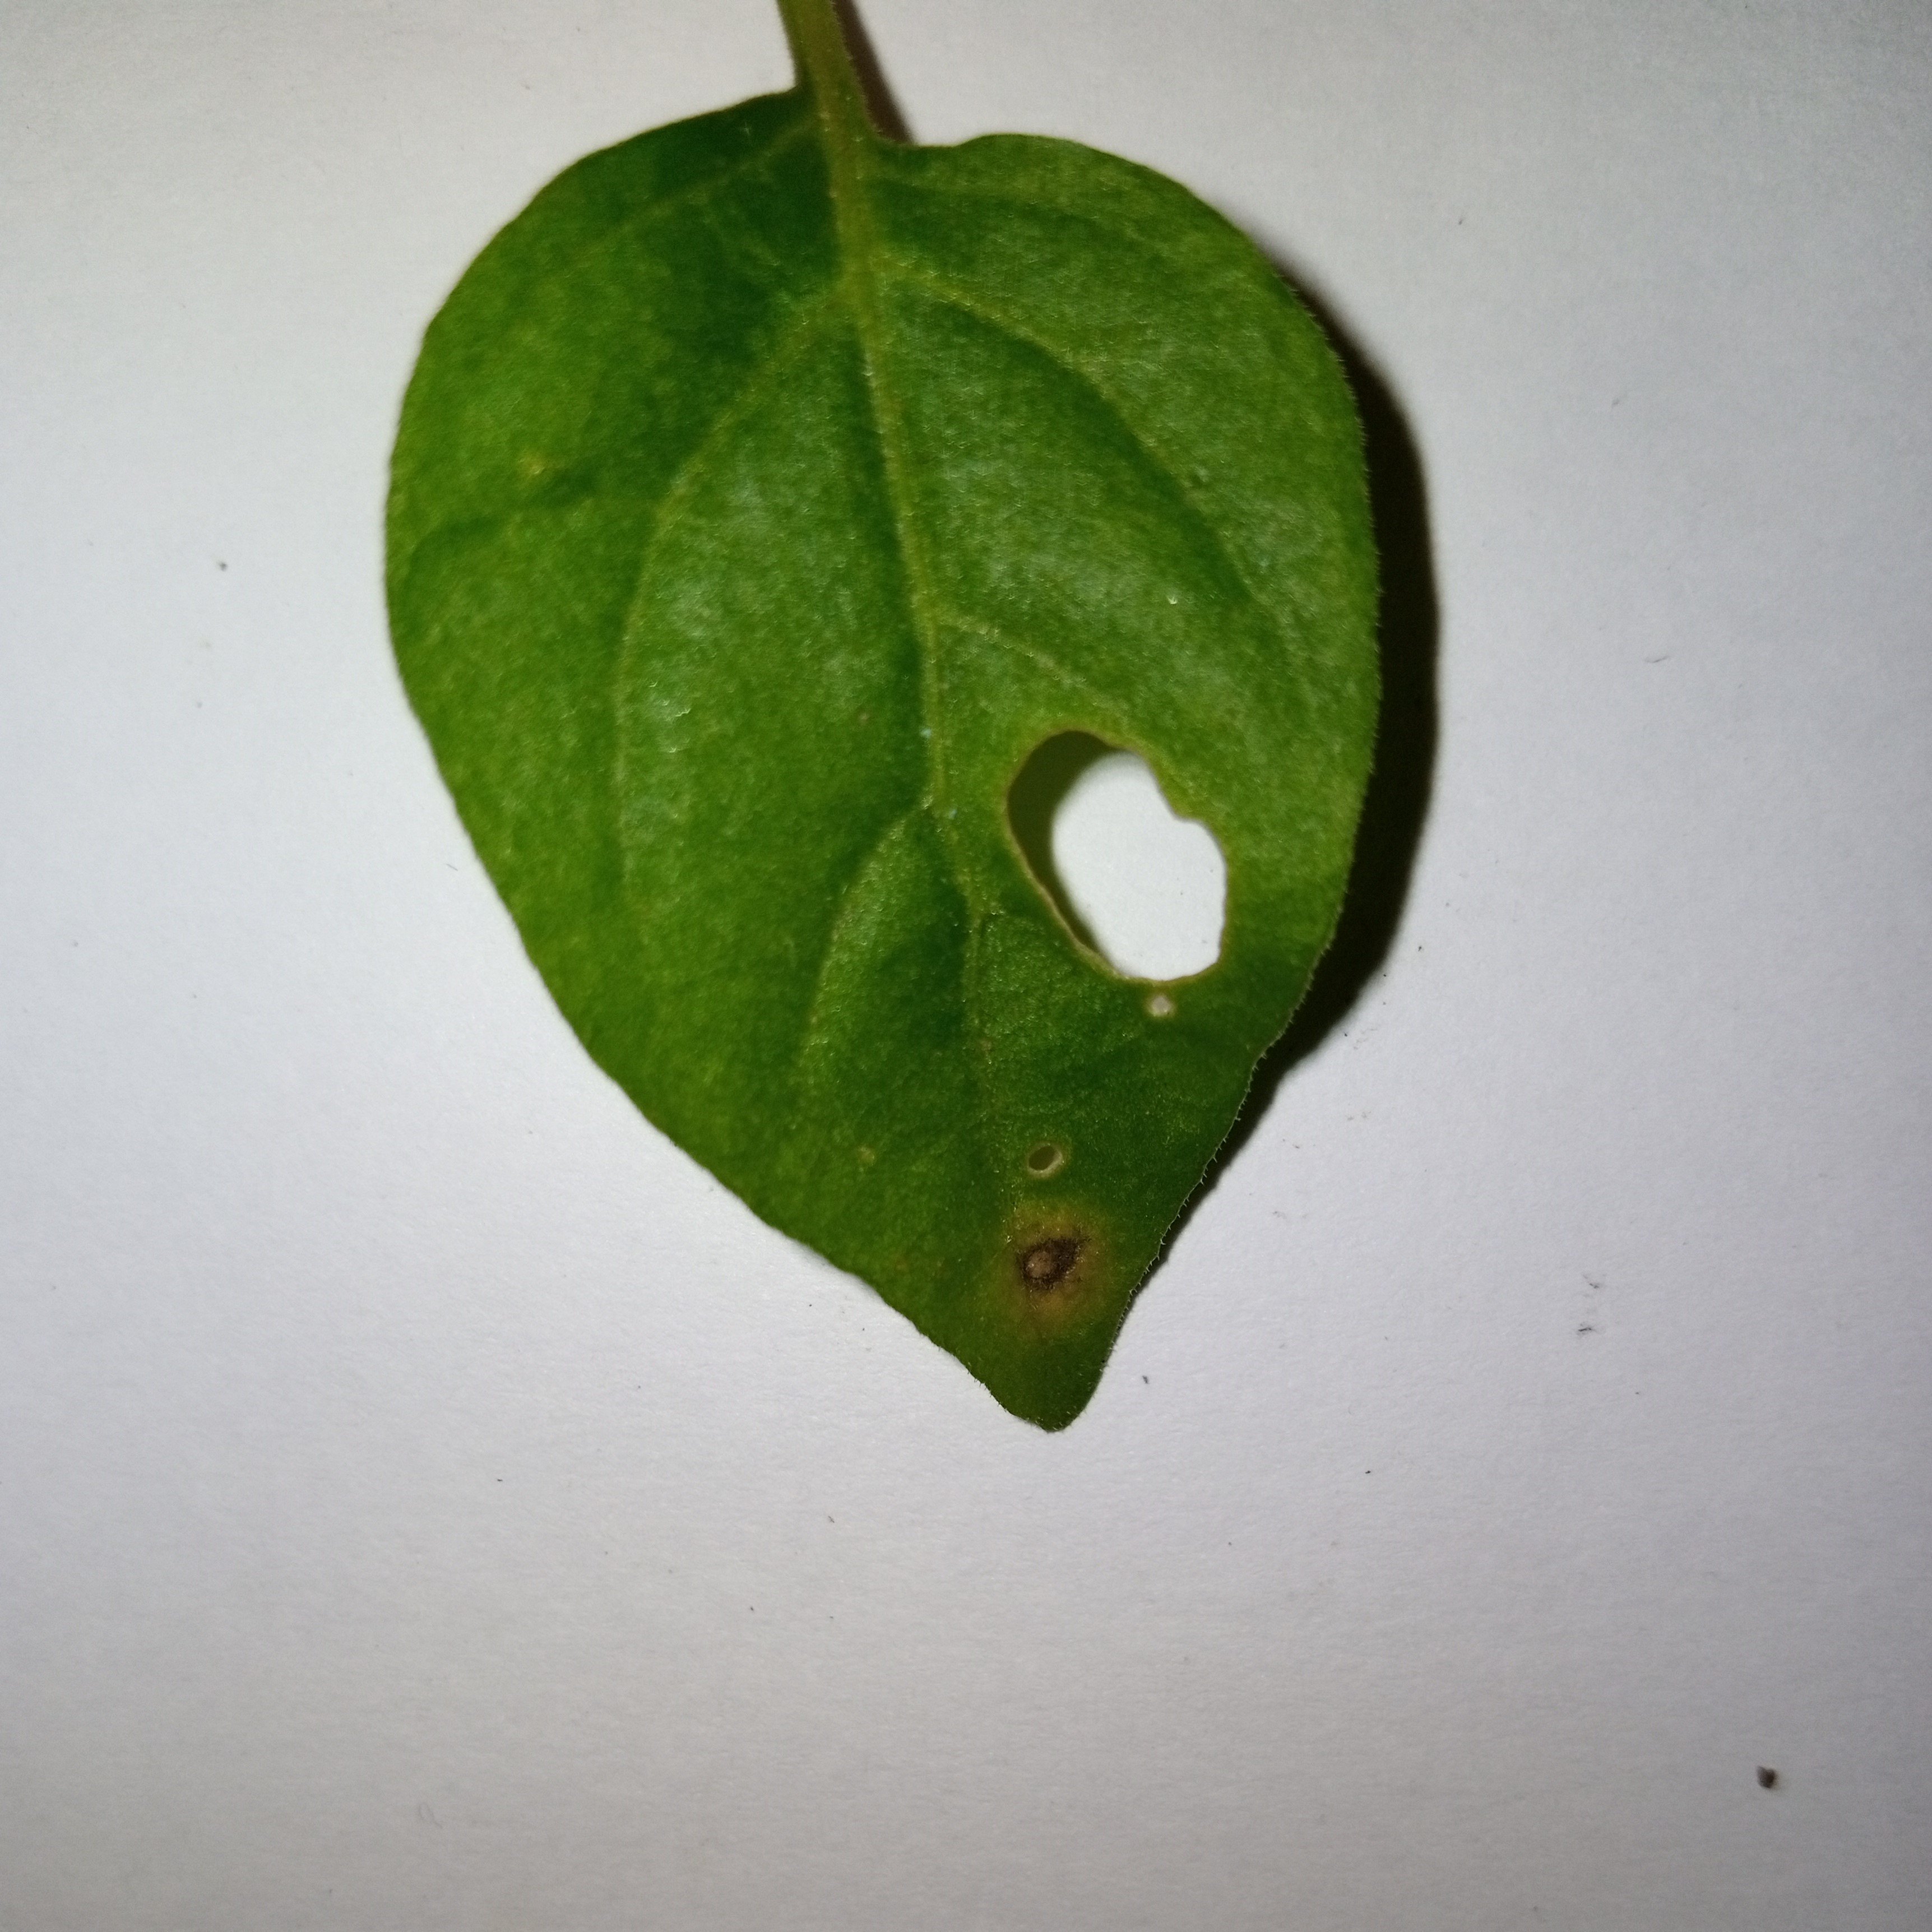Leaf: (281, 48, 1520, 1520)
